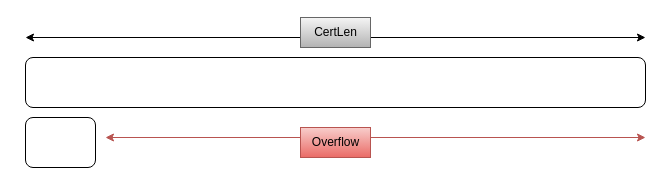
The diagram is 672 pixels wide and 185 high, and some of its shapes have lost their labels. Each missing label, with the centre of its shape:
Certificate Buffer: (x=335, y=82)
Vulnerable Chunk: (x=60, y=142)
